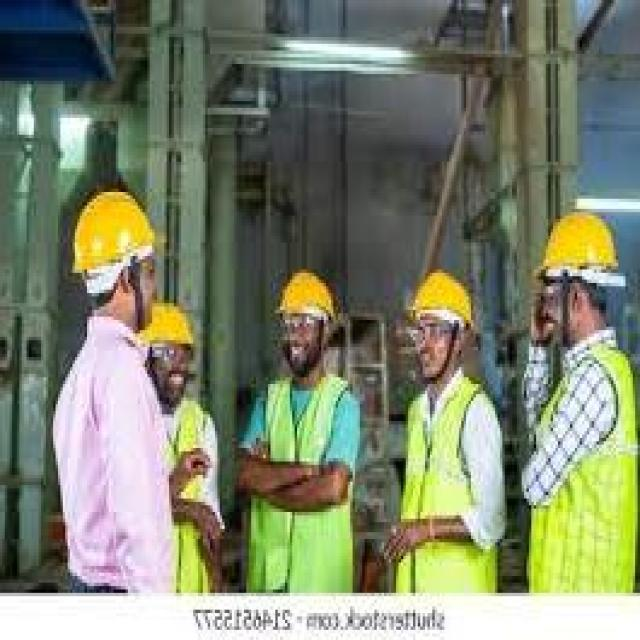reflective_jacket: (519, 340, 639, 592), (241, 360, 364, 575), (149, 390, 222, 525)
safety_helmet: (50, 175, 171, 306), (528, 198, 630, 296), (401, 259, 483, 336), (130, 289, 207, 370), (265, 259, 343, 333)
